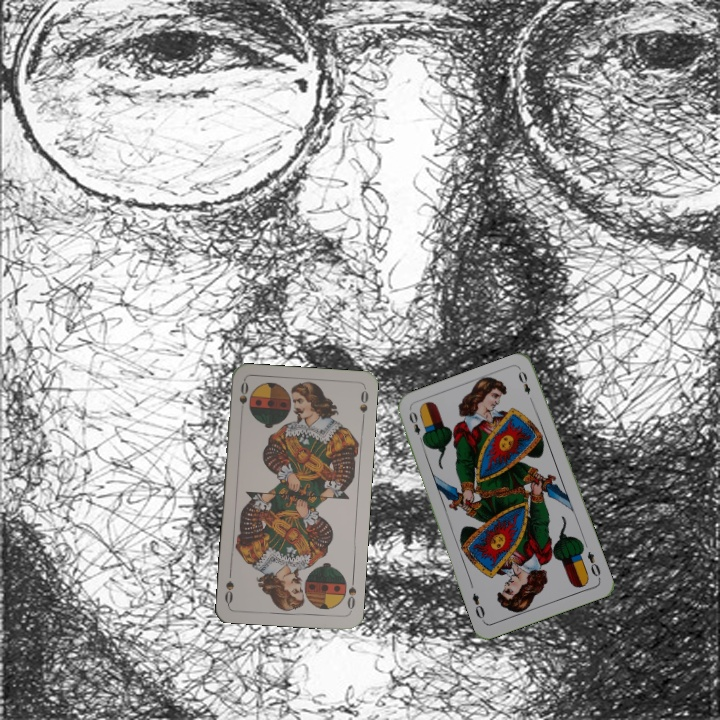EO: (405, 407, 427, 446), (583, 547, 603, 582)
SO: (235, 378, 251, 418), (343, 574, 359, 614)
